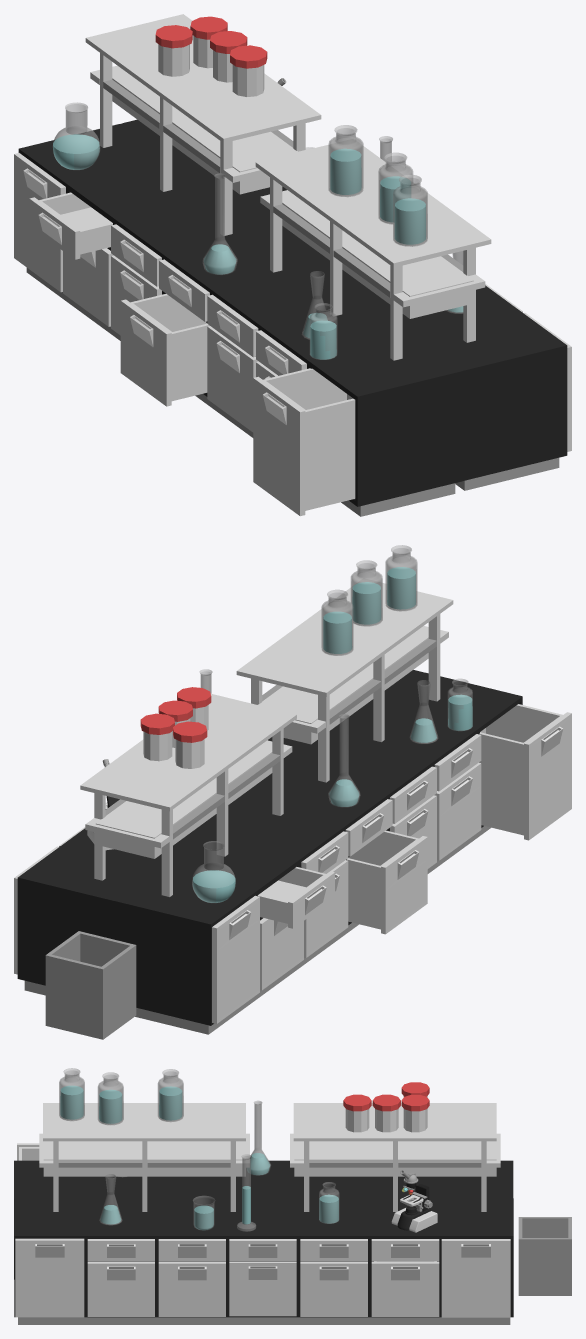
Rendered from Science_Table_001.fbx.
3 views of the same model, one above another, from view 1: azimuth 30°, elevation 25°; view 2: azimuth 150°, elevation 25°; view 3: azimuth 270°, elevation 25° (orthographic). The views are drawn at different scales.
Visible parts, largest first — view 1: polySurface1008, polySurface1097, polySurface1003, polySurface1077, polySurface1037, polySurface1023, polySurface1082, polySurface997, polySurface1030, polySurface1025, polySurface1028, polySurface1022 (+36 smaller); view 2: polySurface1008, polySurface1097, polySurface1003, polySurface1077, polySurface1037, polySurface1005, polySurface1023, polySurface997, polySurface1030, polySurface1082, polySurface1025, polySurface1006 (+36 smaller); view 3: polySurface1097, polySurface1008, polySurface1077, polySurface1082, polySurface997, polySurface1037, polySurface1042, polySurface1087, polySurface1005, polySurface1046, polySurface1091, polySurface1088 (+39 smaller).
Boxes of the visible parts, x1=… form: polySurface1008: x1=18, y1=123, x2=462, y2=506; polySurface1097: x1=124, y1=119, x2=567, y2=480; polySurface1003: x1=253, y1=368, x2=355, y2=516; polySurface1077: x1=255, y1=139, x2=491, y2=267; polySurface1037: x1=85, y1=14, x2=321, y2=142; polySurface1023: x1=120, y1=294, x2=209, y2=406; polySurface1082: x1=260, y1=190, x2=485, y2=318; polySurface997: x1=90, y1=65, x2=305, y2=194; polySurface1030: x1=14, y1=153, x2=65, y2=292; polySurface1025: x1=29, y1=192, x2=112, y2=259; polySurface1028: x1=207, y1=326, x2=258, y2=432; polySurface1022: x1=63, y1=248, x2=113, y2=326; polySurface1008: x1=114, y1=673, x2=522, y2=1025; polySurface1097: x1=17, y1=670, x2=425, y2=985; polySurface1003: x1=479, y1=704, x2=571, y2=840; polySurface1077: x1=236, y1=578, x2=453, y2=696; polySurface1037: x1=80, y1=693, x2=296, y2=811; polySurface1005: x1=45, y1=931, x2=136, y2=1039; polySurface1023: x1=346, y1=830, x2=427, y2=934; polySurface997: x1=85, y1=740, x2=292, y2=858; polySurface1030: x1=212, y1=895, x2=259, y2=1023; polySurface1082: x1=258, y1=626, x2=448, y2=744; polySurface1025: x1=257, y1=867, x2=334, y2=928; polySurface1006: x1=435, y1=762, x2=481, y2=860; polySurface1097: x1=14, y1=1198, x2=513, y2=1317; polySurface1008: x1=14, y1=1160, x2=513, y2=1279; polySurface1077: x1=43, y1=1103, x2=245, y2=1141; polySurface1082: x1=39, y1=1133, x2=249, y2=1176; polySurface997: x1=290, y1=1133, x2=500, y2=1176; polySurface1037: x1=293, y1=1103, x2=496, y2=1141; polySurface1042: x1=15, y1=1238, x2=84, y2=1317; polySurface1087: x1=441, y1=1239, x2=510, y2=1317; polySurface1005: x1=518, y1=1217, x2=571, y2=1295; polySurface1046: x1=18, y1=1317, x2=510, y2=1324; polySurface1091: x1=371, y1=1261, x2=439, y2=1316; polySurface1088: x1=229, y1=1261, x2=296, y2=1316.
Bounding box in the file's own units: 1.79 × 1.77 × 4.2.
